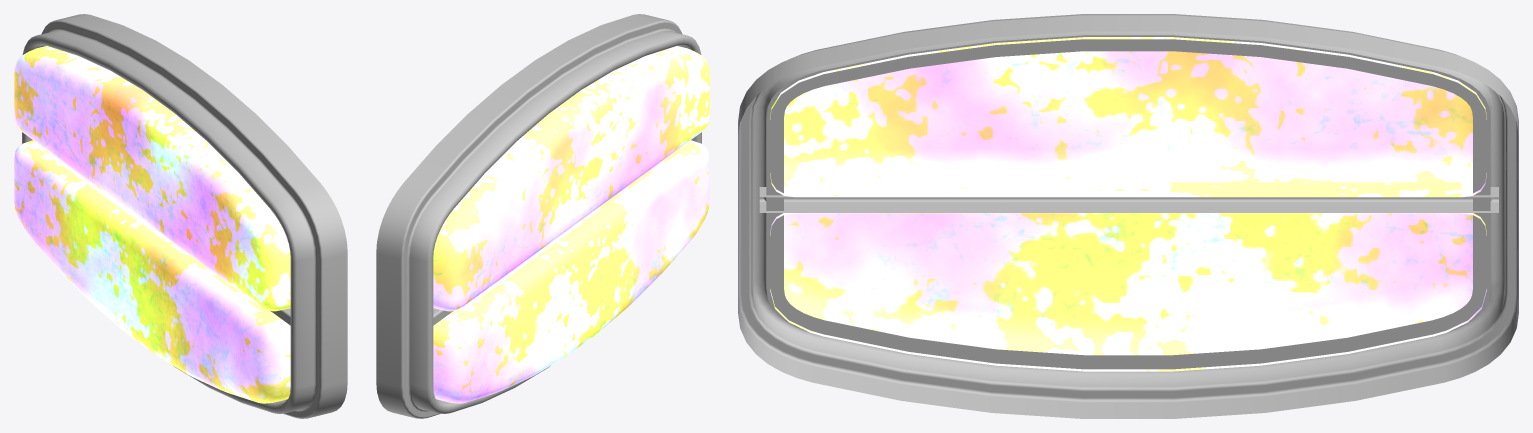
File: SM_Lamp_A.fbx
The picture shows the model from 3 angles, left to right: view 1: azimuth 30°, elevation 25°; view 2: azimuth 150°, elevation 25°; view 3: azimuth 270°, elevation 25°; orthographic projection. The views are drawn at different scales.
Parts seen in each view (by area): view 1: SM_Lamp_A_LOD0; view 2: SM_Lamp_A_LOD0; view 3: SM_Lamp_A_LOD0.
Boxes of the visible parts, x1,y1,x2,y2 form: SM_Lamp_A_LOD0: [14, 14, 347, 418]; SM_Lamp_A_LOD0: [376, 14, 709, 418]; SM_Lamp_A_LOD0: [738, 14, 1518, 418].
Size of the model in its own units: 15.33 by 110 by 60.35.
